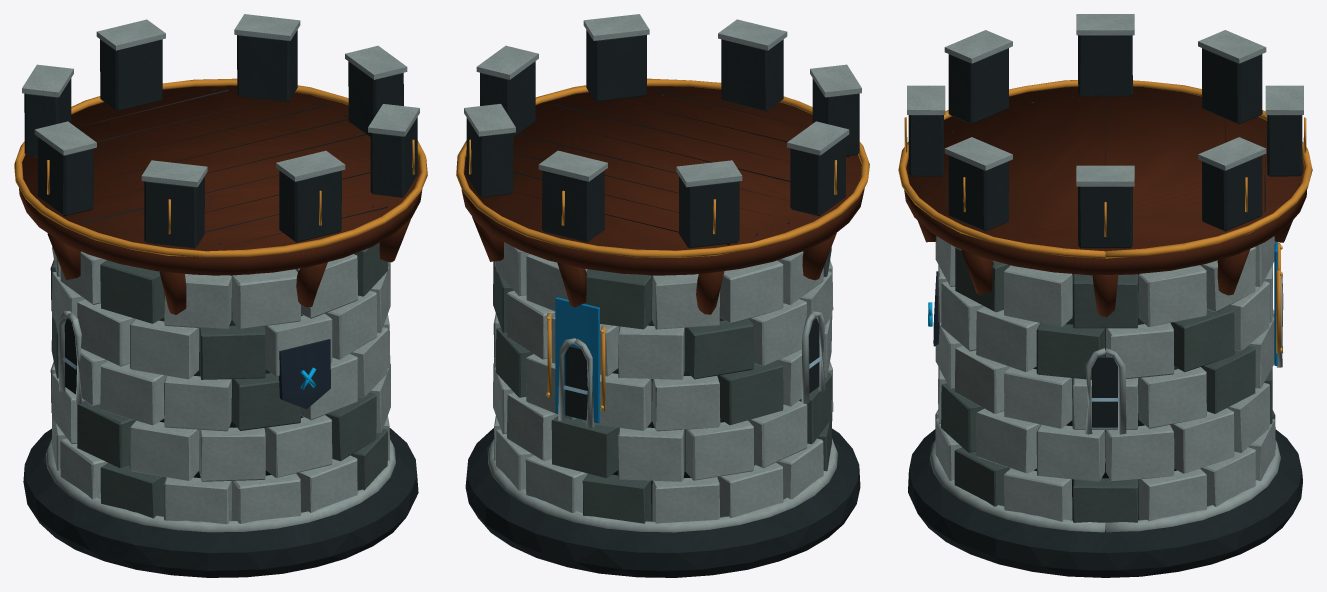
The model's file is SM_archer_tower_LOD2.fbx.
3 views of the same model, side by side, from view 1: azimuth 30°, elevation 25°; view 2: azimuth 150°, elevation 25°; view 3: azimuth 270°, elevation 25° (orthographic).
Parts seen in each view (by area): view 1: SM_archer_tower_LOD2; view 2: SM_archer_tower_LOD2; view 3: SM_archer_tower_LOD2.
Boxes of the visible parts, <box> form: SM_archer_tower_LOD2: <box>14,14,427,577</box>; SM_archer_tower_LOD2: <box>456,14,869,577</box>; SM_archer_tower_LOD2: <box>898,14,1312,577</box>.
Bounding box in the file's own units: 2.13 × 2.13 × 2.26.
